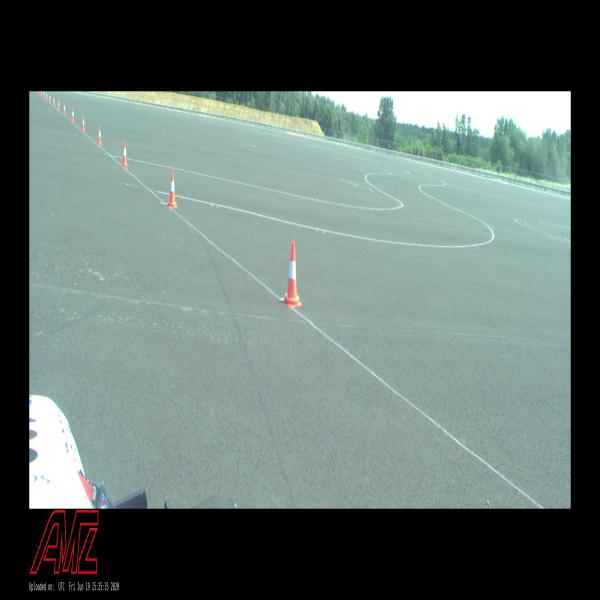orange_cone: (282, 241, 301, 307), (167, 171, 178, 208), (121, 141, 128, 166), (97, 126, 102, 146), (81, 115, 85, 131), (71, 108, 74, 122), (63, 103, 66, 115), (57, 99, 60, 110), (53, 96, 55, 106), (49, 94, 51, 102), (43, 91, 45, 97), (41, 91, 43, 96), (46, 92, 47, 100)
